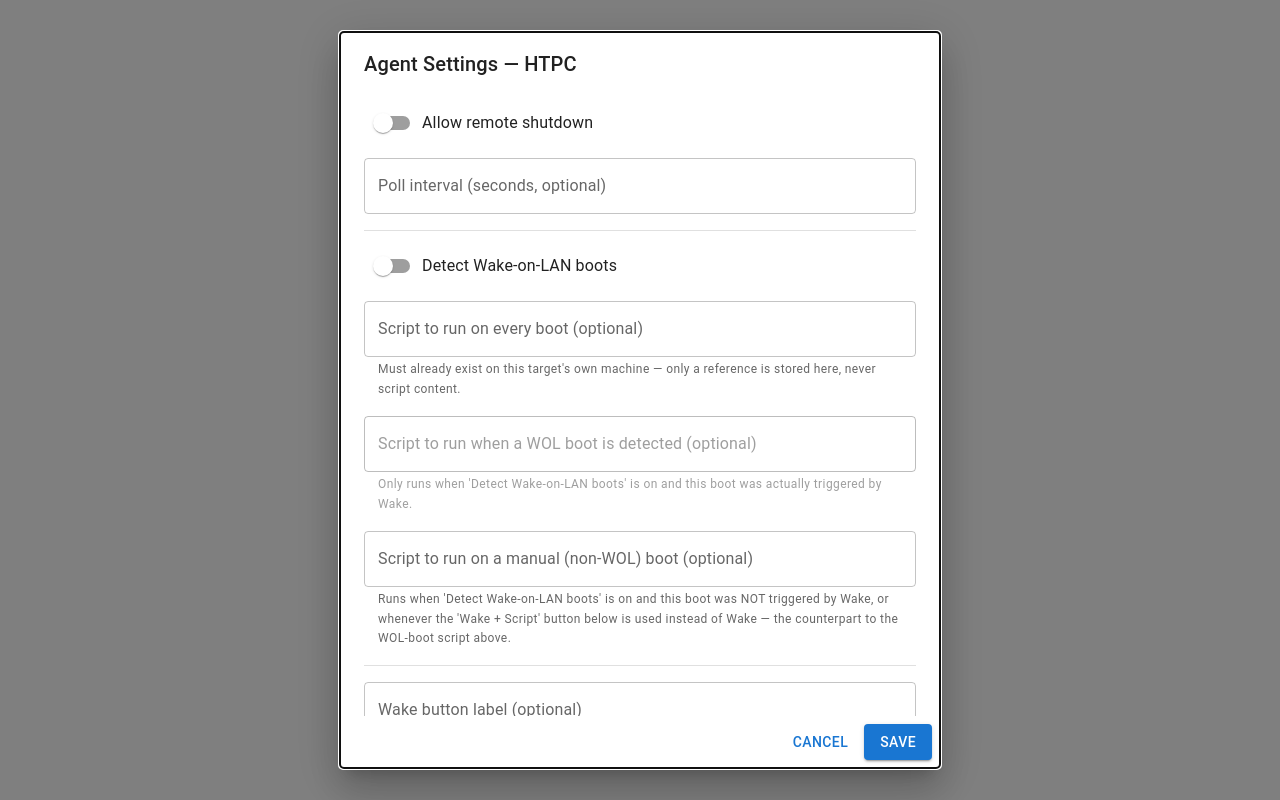
AgentConfigDialog › shows an error and does not close when the save request fails
Step 1. Click the button "Save" → [898, 742], box [864,724,932,760]
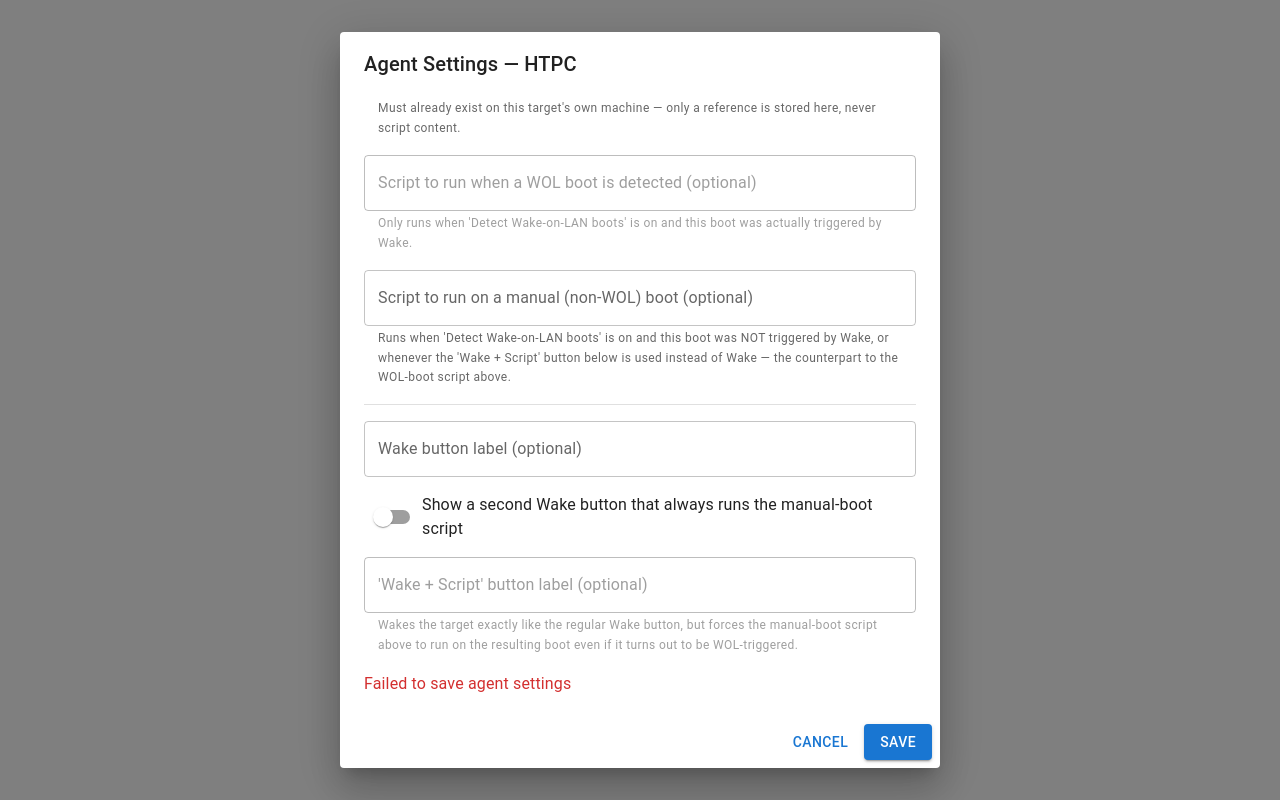
Check: the text "Failed to save agent settings" is shown, box [364,674,571,693]
